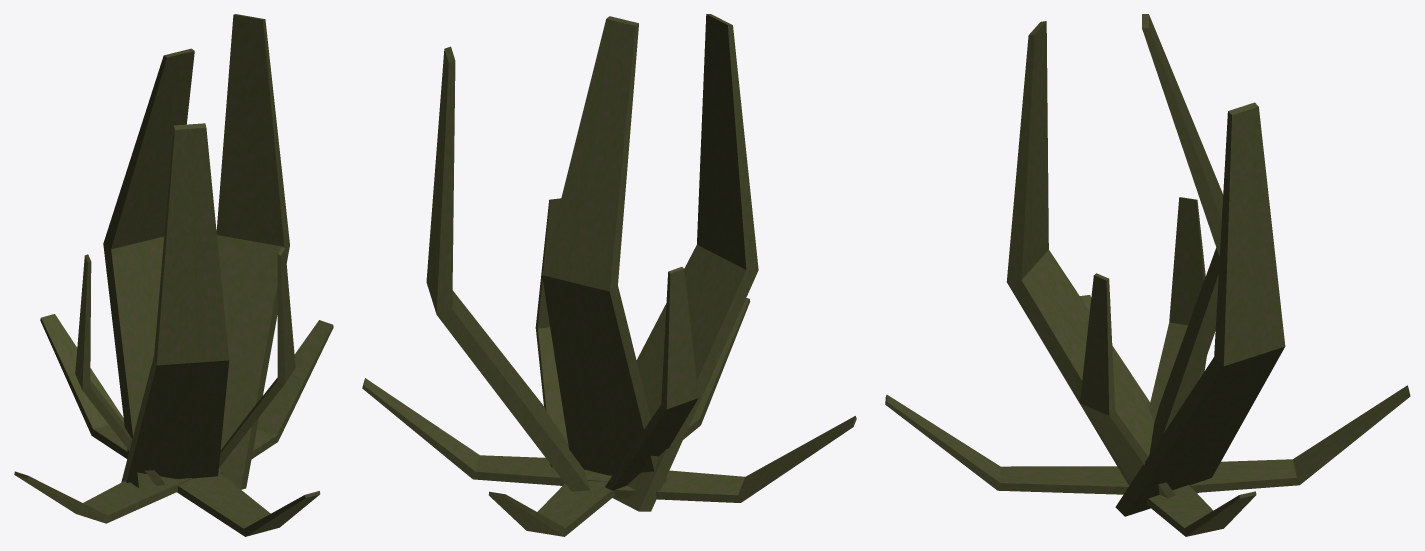
Rendered from Grama_Basica.fbx.
3 views of the same model, side by side, from view 1: azimuth 30°, elevation 25°; view 2: azimuth 150°, elevation 25°; view 3: azimuth 270°, elevation 25° (orthographic). The views are drawn at different scales.
Visible parts, largest first — view 1: Gramado; view 2: Gramado; view 3: Gramado.
Part boxes in pixels (box(x1,y1,x2,y2)): Gramado: box(14, 14, 333, 536); Gramado: box(362, 14, 856, 536); Gramado: box(885, 14, 1410, 536).
Size of the model in its own units: 47.51 by 51.39 by 52.46.
Materials: 1 (1 with a texture image).
